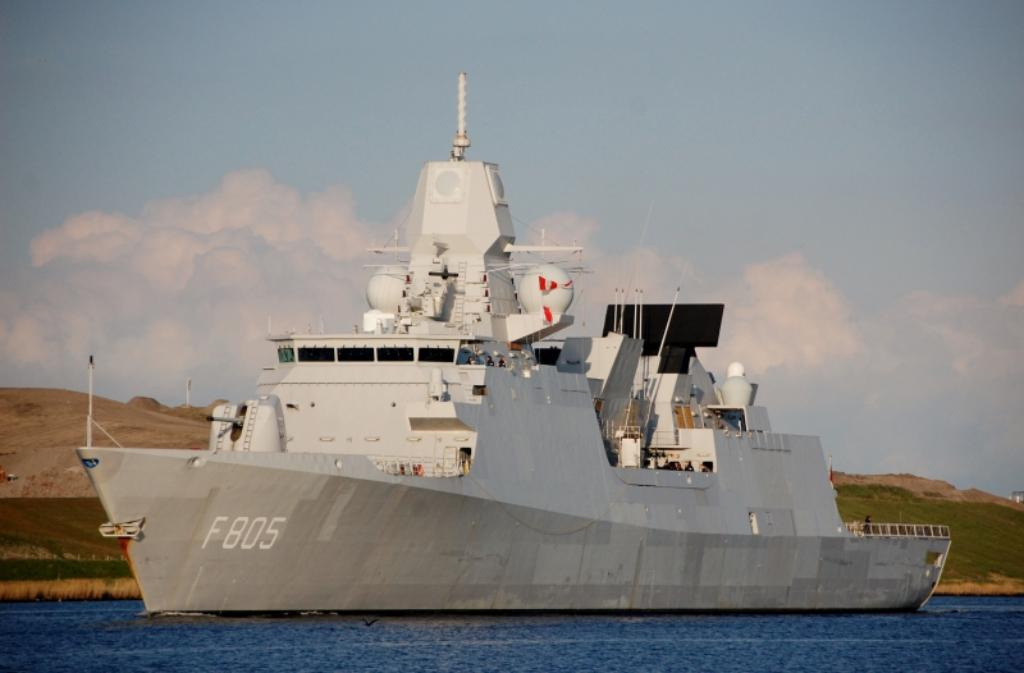Warship: (70, 64, 954, 616)
